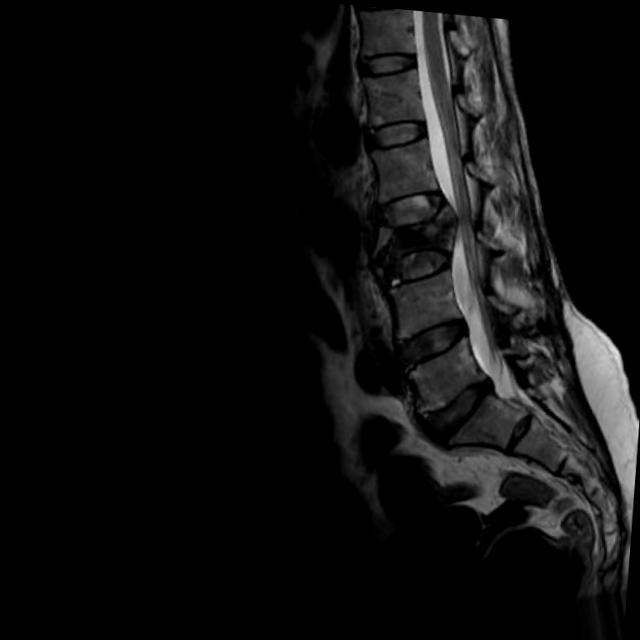Comminuted: (351, 168, 470, 297)
